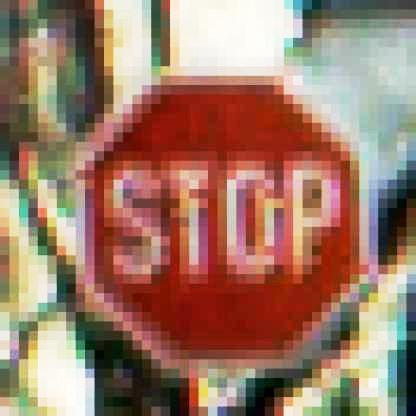Stop Sign: (69, 63, 376, 372)
